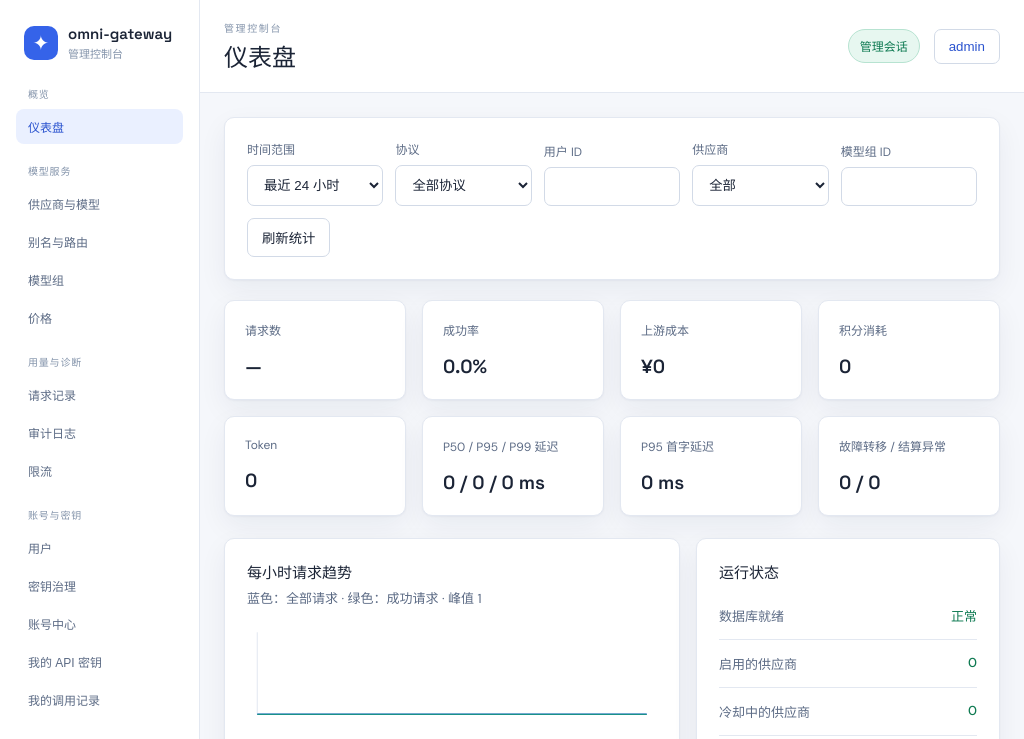
Test case: 管理端限流关联对象选择 › 只读列表不打开表单时，同样用用户名展示既有作用域规则
This screenshot has width=1024, height=739.
Click the button "限流" at (100, 470), box x1=16 y1=453 x2=183 y2=488
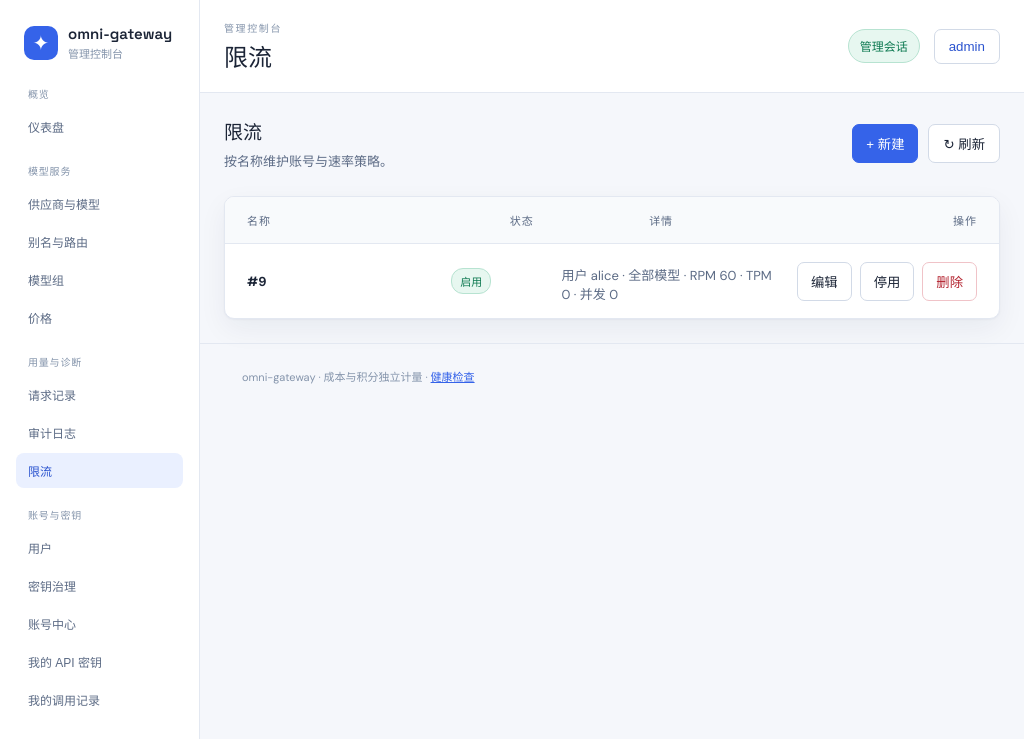
Expected: the text "用户 alice" is shown, x1=561 y1=267 x2=772 y2=303
